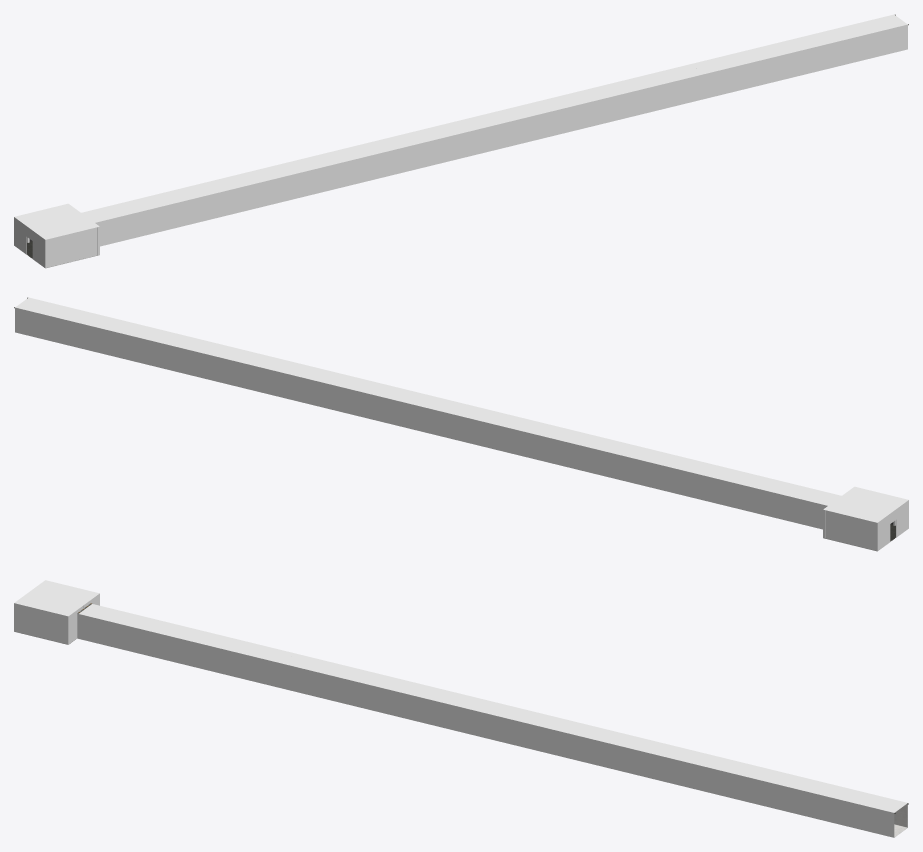
Rendered from SCP1346.fbx.
3 renders of one model, top to bottom at view 1: azimuth 30°, elevation 25°; view 2: azimuth 150°, elevation 25°; view 3: azimuth 330°, elevation 25°, orthographic.
Parts seen in each view (by area): view 1: node_id92, node_id104, node_id116, node_id128, node_id89, node_id101, node_id113, node_id125, node_id50, node_id35; view 2: node_id107, node_id119, node_id95, node_id131, node_id89, node_id101, node_id113, node_id125, node_id50, node_id35; view 3: node_id104, node_id116, node_id92, node_id128, node_id89, node_id101, node_id113, node_id125, node_id50.
Boxes of the visible parts, bbox=[...] form: node_id92: bbox=[703, 24, 907, 98]; node_id104: bbox=[499, 74, 703, 148]; node_id116: bbox=[295, 124, 499, 198]; node_id128: bbox=[95, 174, 295, 246]; node_id89: bbox=[690, 14, 907, 74]; node_id101: bbox=[486, 64, 702, 123]; node_id113: bbox=[282, 114, 498, 173]; node_id125: bbox=[81, 164, 294, 222]; node_id50: bbox=[15, 204, 98, 239]; node_id35: bbox=[14, 217, 45, 267]; node_id107: bbox=[219, 357, 423, 431]; node_id119: bbox=[423, 407, 627, 481]; node_id95: bbox=[15, 308, 219, 381]; node_id131: bbox=[627, 457, 827, 529]; node_id89: bbox=[15, 297, 232, 357]; node_id101: bbox=[219, 347, 436, 407]; node_id113: bbox=[423, 397, 640, 456]; node_id125: bbox=[628, 447, 840, 505]; node_id50: bbox=[823, 487, 907, 522]; node_id35: bbox=[877, 500, 908, 550]; node_id104: bbox=[485, 713, 689, 787]; node_id116: bbox=[281, 663, 485, 737]; node_id92: bbox=[690, 763, 894, 837]; node_id128: bbox=[77, 613, 281, 687]; node_id89: bbox=[690, 753, 907, 812]; node_id101: bbox=[486, 703, 703, 762]; node_id113: bbox=[282, 653, 498, 712]; node_id125: bbox=[79, 604, 294, 663]; node_id50: bbox=[15, 580, 98, 616].
Size of the model in its own units: 0.512 by 0.0161 by 0.032.
Materials: 98 (37 with a texture image).
